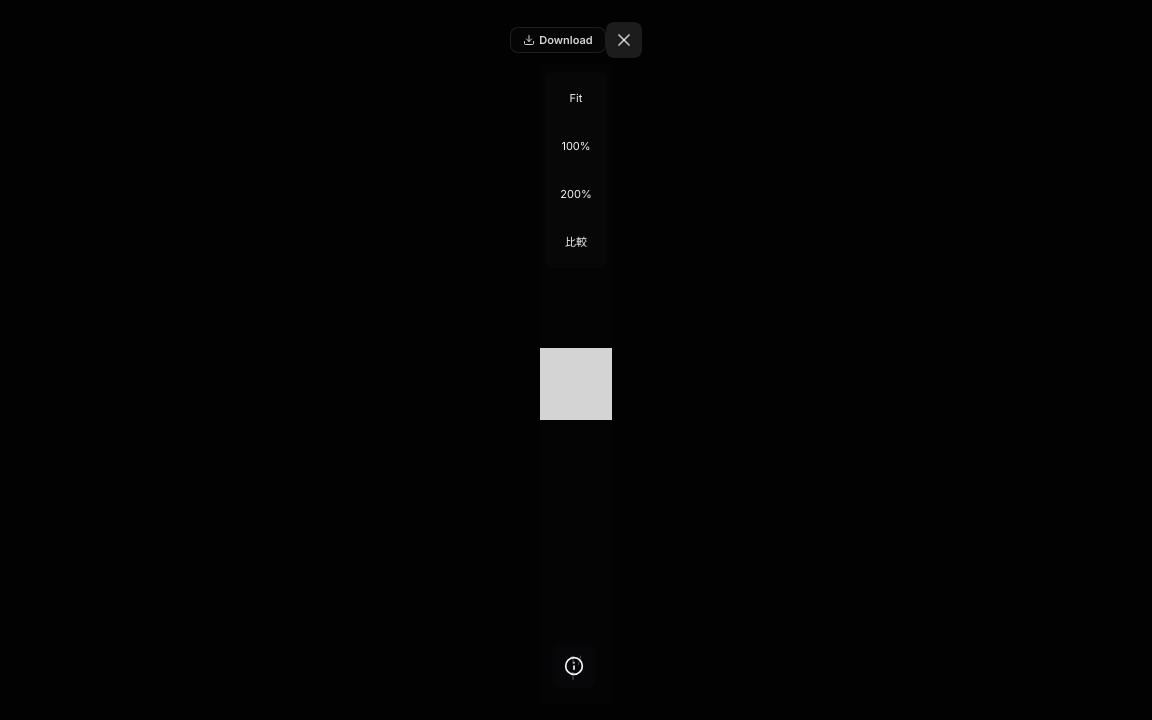
Test: HistoryModalPreview › shows local frozen facts while pending, then adds only the matching server completion time
Click the button named "show info" at (574, 666), box [552,644,596,688]
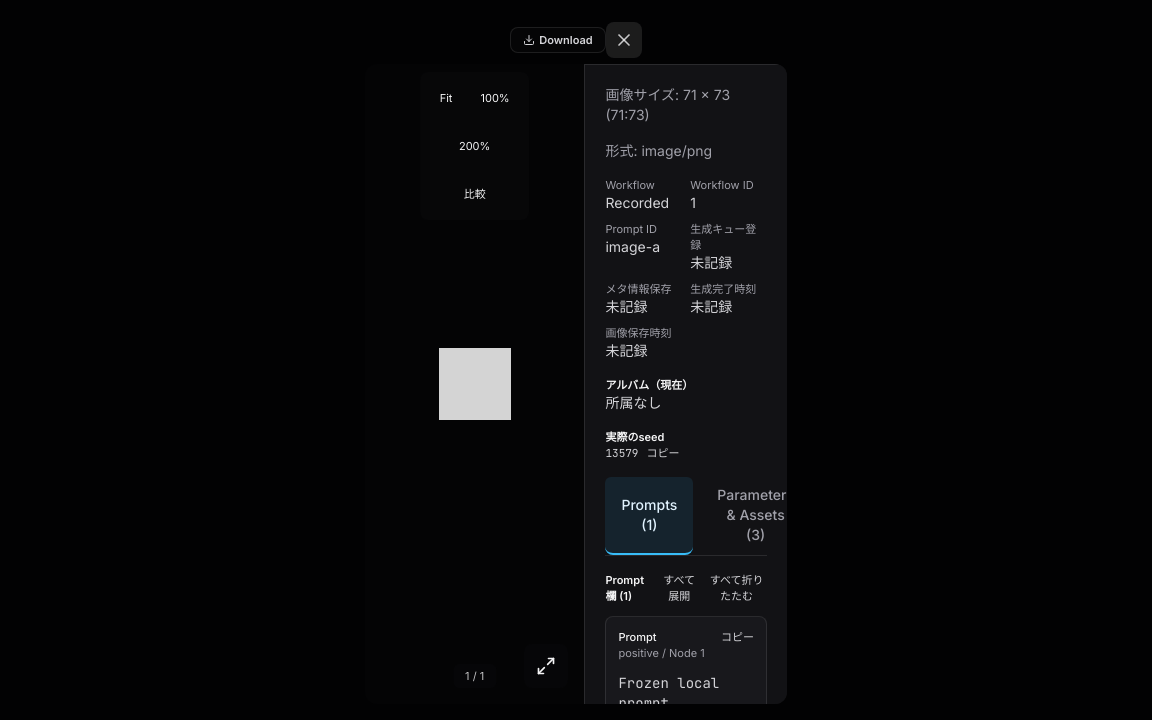
Click the tab "Parameters & Assets (3)" at (756, 516), box [701,477,810,555]
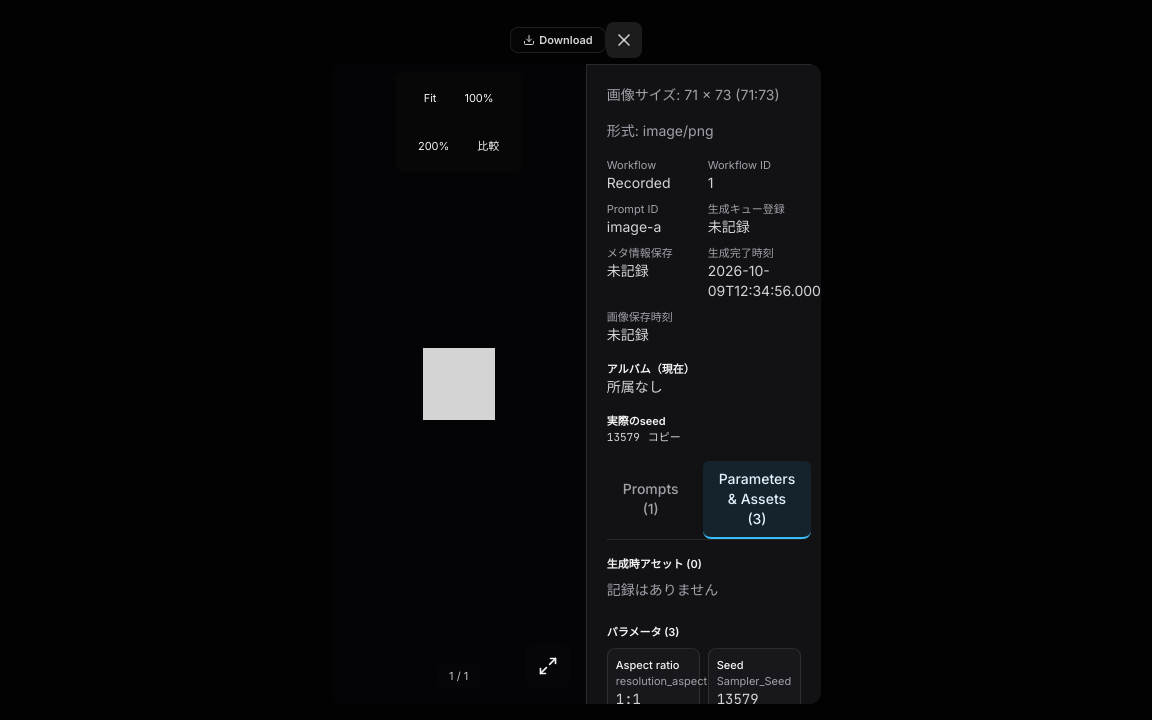
Result: the text "未記録" is shown at [708,218,750,235]
Result: the text "2026-10-09T12:34:56.000Z" is shown at [708,262,820,299]
Result: the text "1:1" is shown at [616,690,641,704]
